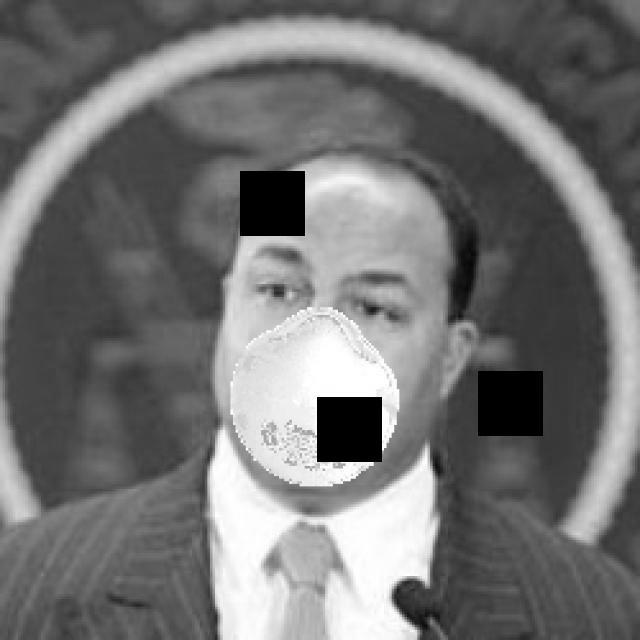n95: (218, 182, 447, 485)
